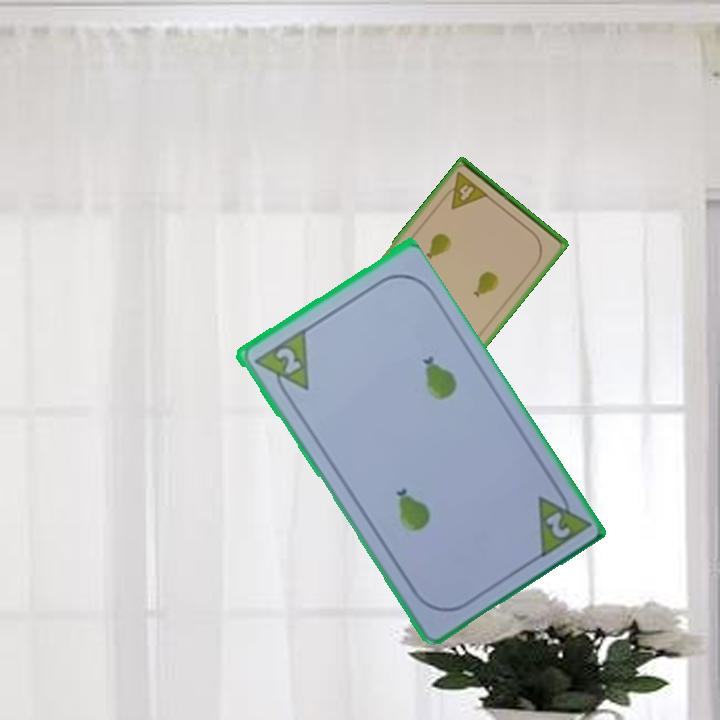2p: (271, 343, 303, 377), (541, 508, 573, 542)
4p: (438, 169, 491, 213)
